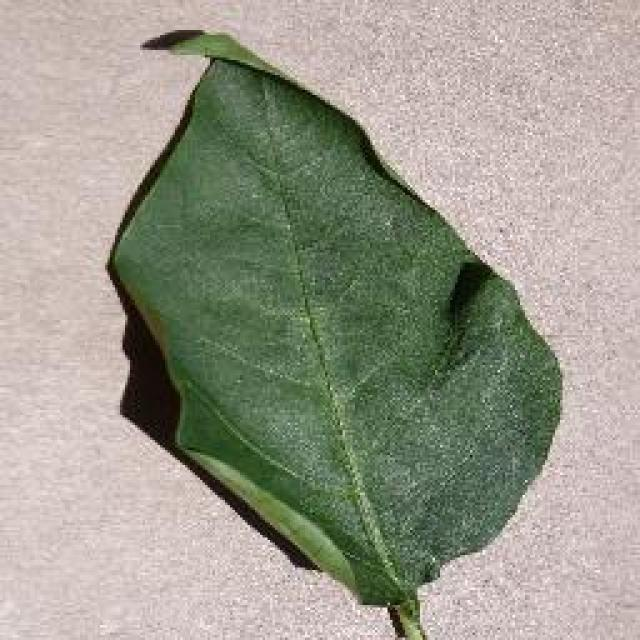Chilli_Healthy: (102, 25, 562, 635)
